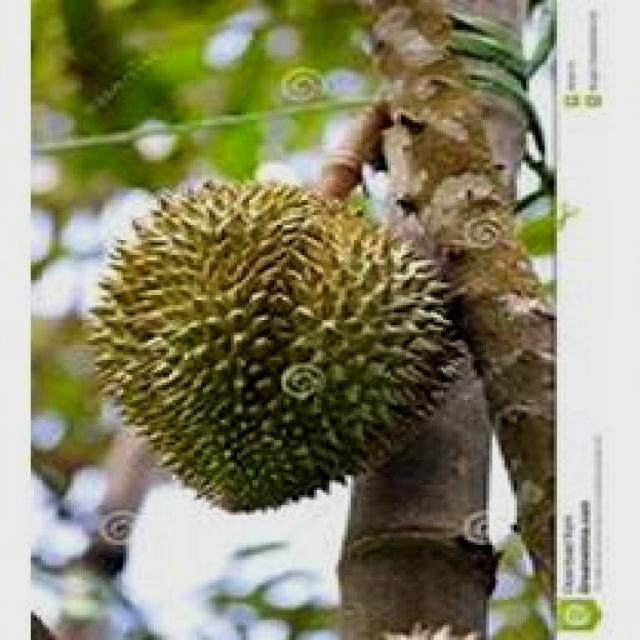agrume: (89, 155, 489, 517)
